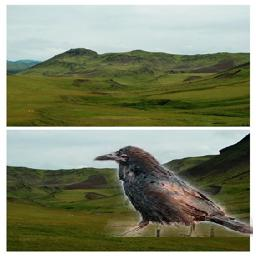Crow: (93, 145, 253, 237)
